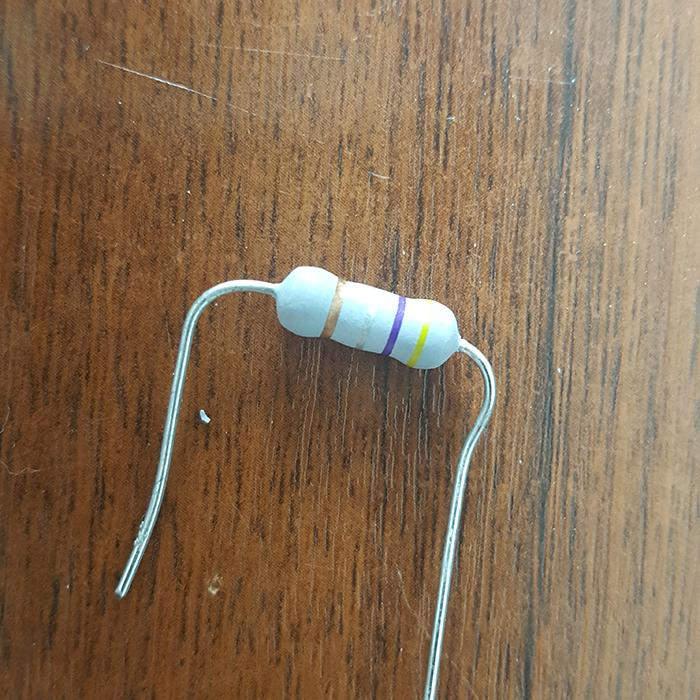resistor: (273, 265, 461, 368)
